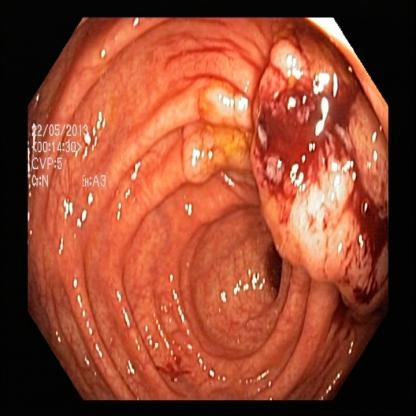Labels: (30, 119, 121, 208)
Polyps: (252, 43, 379, 305), (182, 70, 246, 183)
